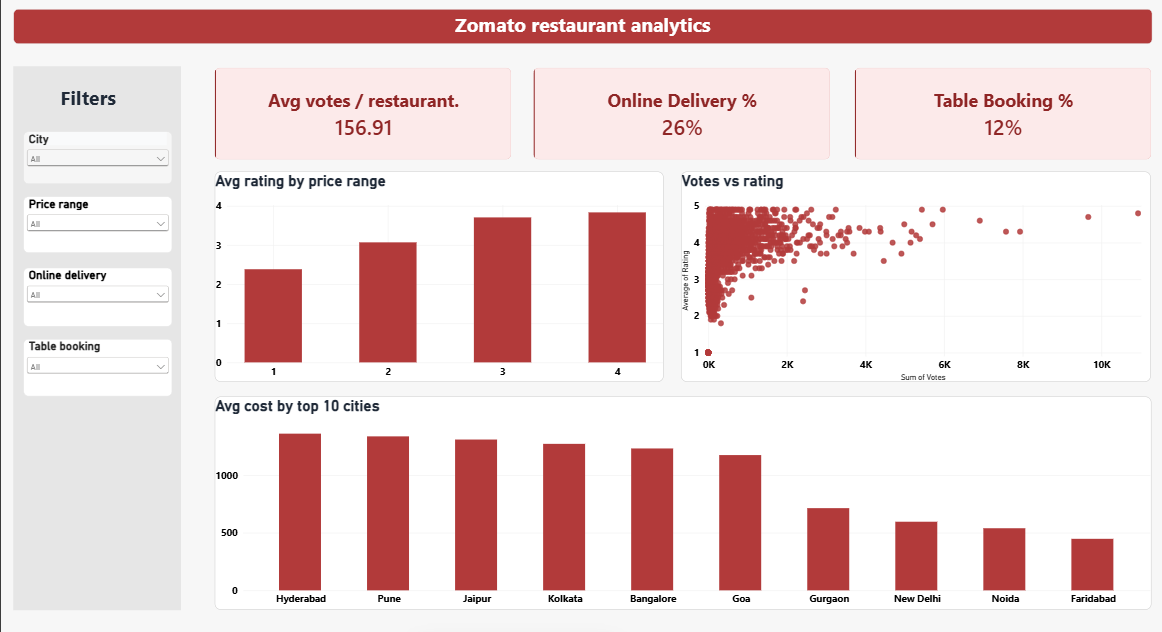

This screenshot's page, from the dashboard's own definition file:
{"tool":"powerbi","page":{"name":"Ratings and cost deep dive","canvas":[1920,1080],"ordinal":1},"visuals":[{"type":"textbox","box":[20.6,16.5,1875.1,57.6],"z":0},{"type":"shape","box":[20.6,111.1,275.8,895.4],"z":1000},{"type":"textbox","box":[80.3,140,146.1,78.2],"z":2000},{"type":"slicer","fields":{"Values":["Sheet1.City"]},"box":[37,218.2,244.9,86.4],"z":3000},{"type":"slicer","fields":{"Values":["Sheet1.Price_range"]},"box":[37,325.2,244.9,92.6],"z":4000},{"type":"slicer","fields":{"Values":["Sheet1.Has_Online_delivery"]},"box":[37,442.5,244.9,96.7],"z":5000},{"type":"slicer","fields":{"Values":["Sheet1.Has_Table_booking"]},"box":[37,559.9,244.9,94.7],"z":6000},{"type":"cardVisual","fields":{"Data":["Sheet1.Avg Votes per Restaurant"]},"box":[351.4,112.3,488.1,151.3],"z":7000},{"type":"cardVisual","fields":{"Data":["Sheet1.Online Delivery %"]},"box":[876.1,112.3,488.1,151.3],"z":8000},{"type":"cardVisual","fields":{"Data":["Sheet1.Table Booking %"]},"box":[1405.6,112.3,488.1,151.3],"z":9000},{"type":"clusteredColumnChart","title":"Avg rating by price range","fields":{"Category":["Sheet1.Price_range"],"Y":["Avg(Sheet1.Rating)"]},"box":[351.4,283.1,739.4,346.5],"z":10000},{"type":"scatterChart","title":"Votes vs rating","fields":{"Category":["Sheet1.RestaurantID"],"X":["Sum(Sheet1.Votes)"],"Y":["Avg(Sheet1.Rating)"]},"box":[1120.1,283.1,773.6,346.5],"z":11000},{"type":"clusteredColumnChart","title":"Avg cost by top 10 cities","fields":{"Category":["Sheet1.City"],"Y":["Avg(Sheet1.Average_Cost_for_two)"]},"box":[351.4,654,1542.3,351.4],"z":12000}]}

Visuals, with their boxes on the page's 1920x1080 design canvas (x1, y1, x2, y2). These are canvas units, not pixel positions in the 1162x632 screenshot, which may show the page scaled, cropped or inside an application window:
textbox: x1=21 y1=16 x2=1896 y2=74
shape: x1=21 y1=111 x2=296 y2=1006
textbox: x1=80 y1=140 x2=226 y2=218
slicer - Sheet1.City: x1=37 y1=218 x2=282 y2=305
slicer - Sheet1.Price_range: x1=37 y1=325 x2=282 y2=418
slicer - Sheet1.Has_Online_delivery: x1=37 y1=442 x2=282 y2=539
slicer - Sheet1.Has_Table_booking: x1=37 y1=560 x2=282 y2=655
cardVisual - Sheet1.Avg Votes per Restaurant: x1=351 y1=112 x2=840 y2=264
cardVisual - Sheet1.Online Delivery %: x1=876 y1=112 x2=1364 y2=264
cardVisual - Sheet1.Table Booking %: x1=1406 y1=112 x2=1894 y2=264
"Avg rating by price range" clusteredColumnChart: x1=351 y1=283 x2=1091 y2=630
"Votes vs rating" scatterChart: x1=1120 y1=283 x2=1894 y2=630
"Avg cost by top 10 cities" clusteredColumnChart: x1=351 y1=654 x2=1894 y2=1005
